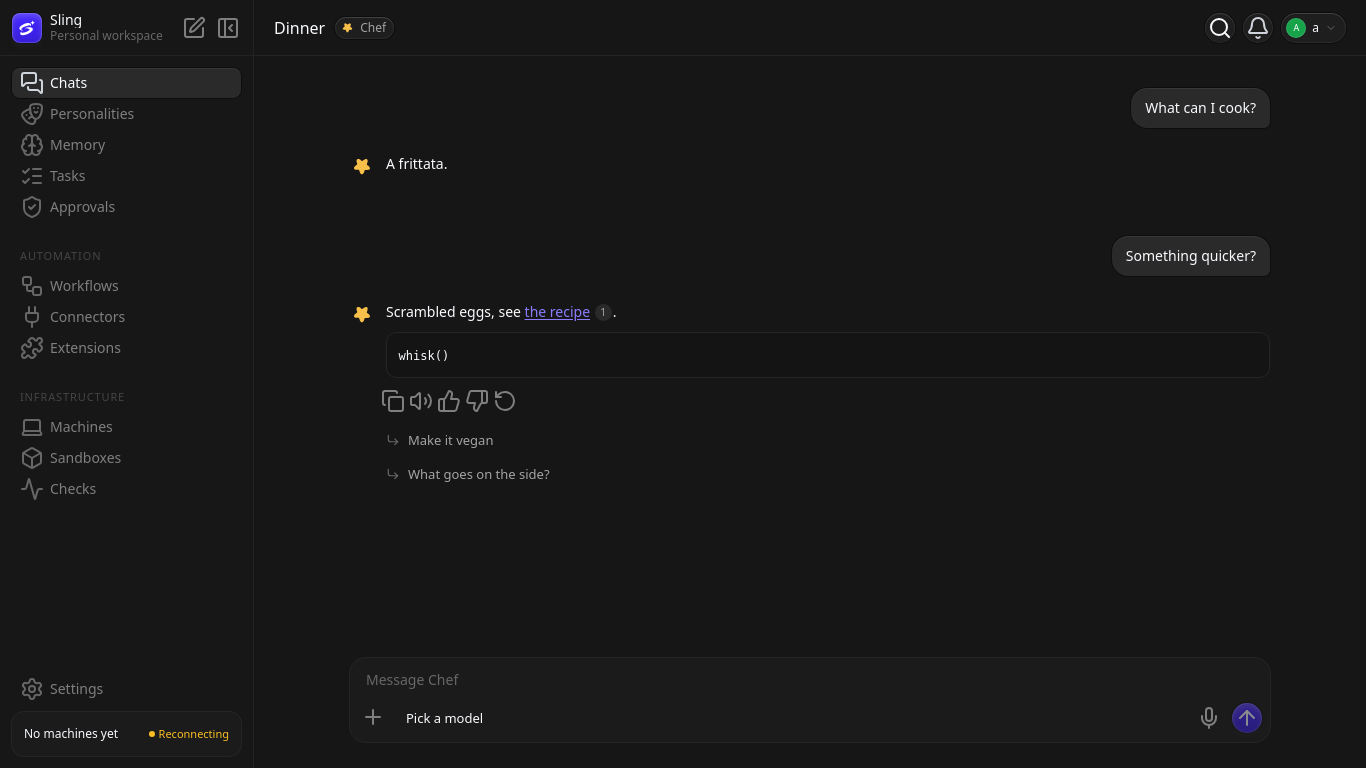
Test case: reply actions › retries the latest reply, and drops it when the server removes it
Click the button named "Retry". click: x=505, y=401
box: left=492, top=388, right=518, bottom=414
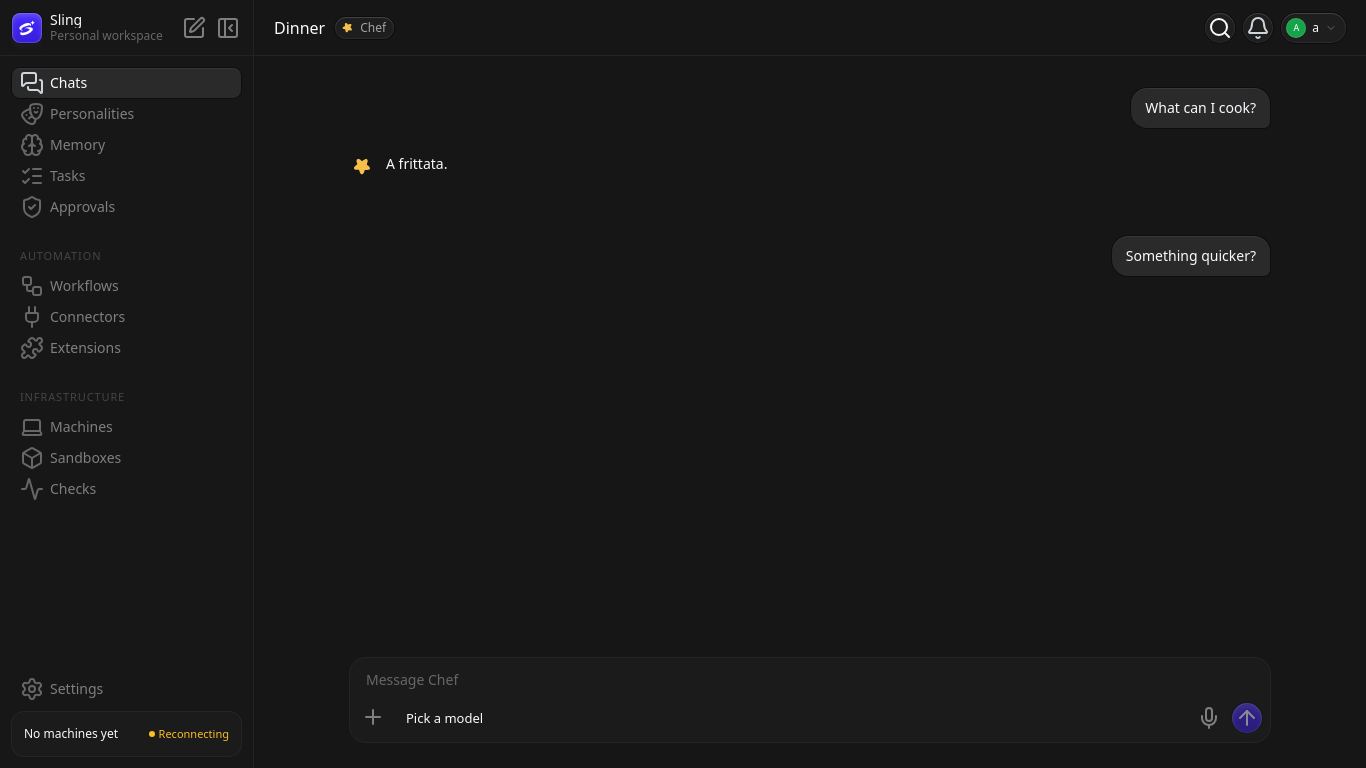
Expected: the text "Scrambled eggs" is gone
